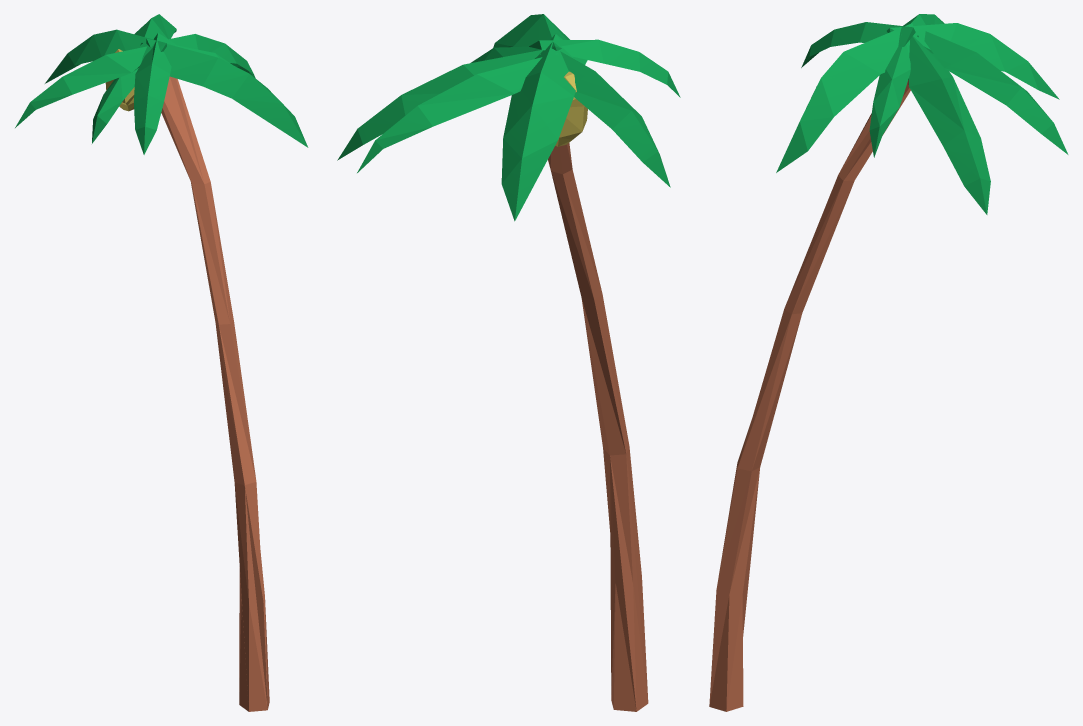
Rendered from Tree_12_gradient_green_vc.fbx.
3 views of the same model, side by side, from view 1: azimuth 30°, elevation 25°; view 2: azimuth 150°, elevation 25°; view 3: azimuth 270°, elevation 25° (orthographic). The views are drawn at different scales.
Visible parts, largest first — view 1: Tree_12_gradient_green_vc; view 2: Tree_12_gradient_green_vc; view 3: Tree_12_gradient_green_vc.
Boxes of the visible parts, x1,y1,x2,y2 form: Tree_12_gradient_green_vc: (15, 14, 308, 711); Tree_12_gradient_green_vc: (337, 14, 680, 711); Tree_12_gradient_green_vc: (709, 14, 1068, 711).
Size of the model in its own units: 80.91 by 183 by 88.81.
